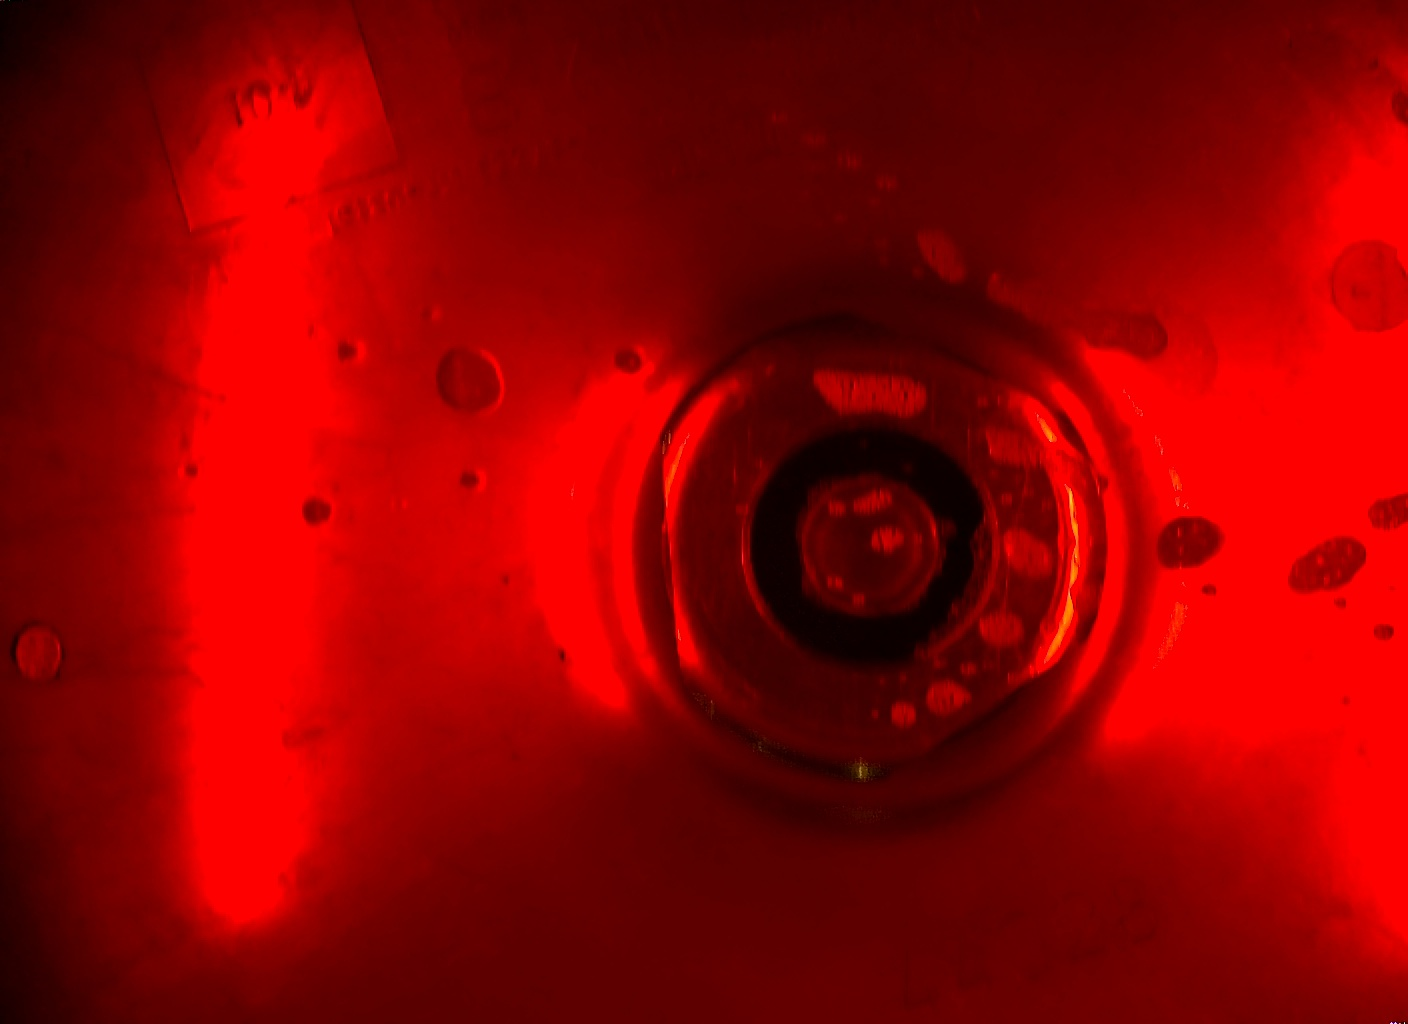pena: (869, 516, 1086, 743), (906, 224, 1168, 365), (805, 473, 935, 628), (801, 352, 935, 424), (1275, 515, 1368, 615), (1139, 498, 1230, 595), (967, 395, 1056, 487), (425, 331, 511, 410)
